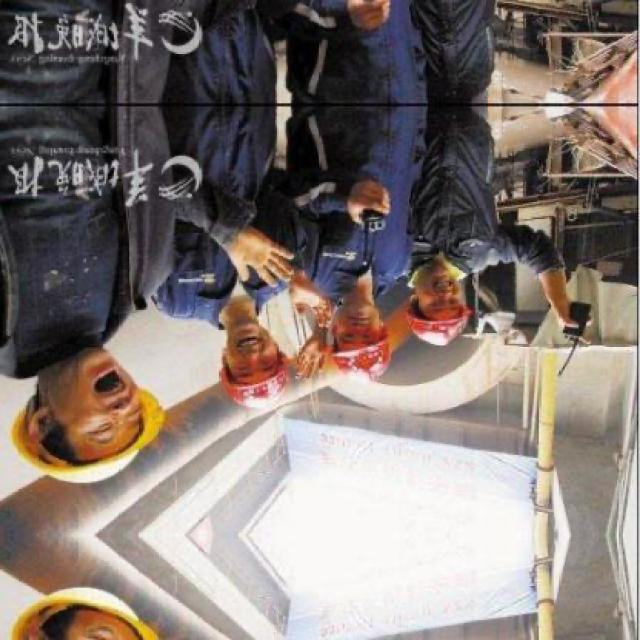con casco: (11, 349, 176, 483), (340, 290, 428, 370), (387, 262, 447, 356), (217, 340, 286, 416)
